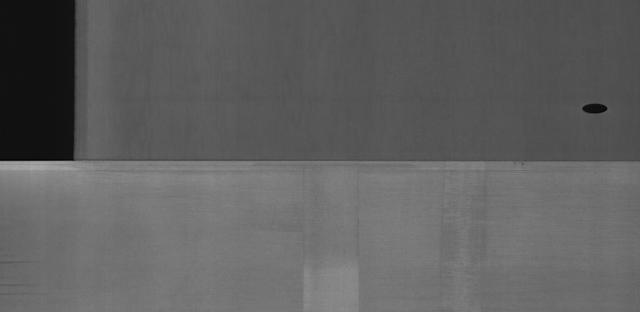punching_hole: (574, 99, 614, 118)
welding_line: (0, 152, 639, 170)
